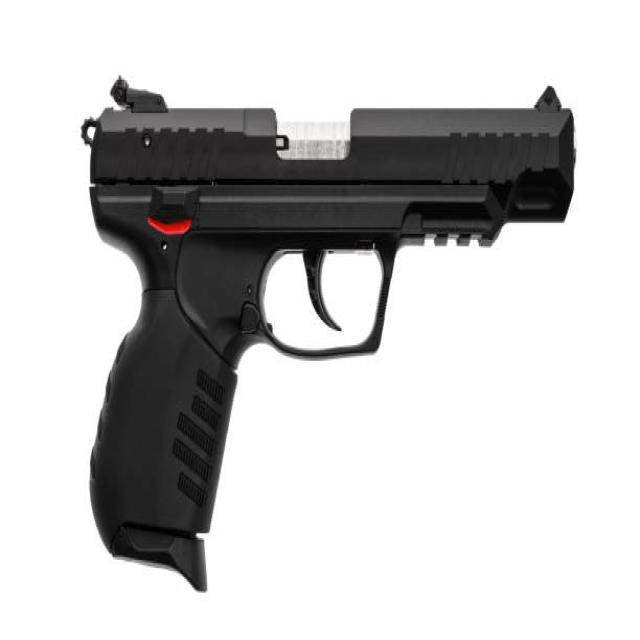pistol: (74, 75, 585, 593)
